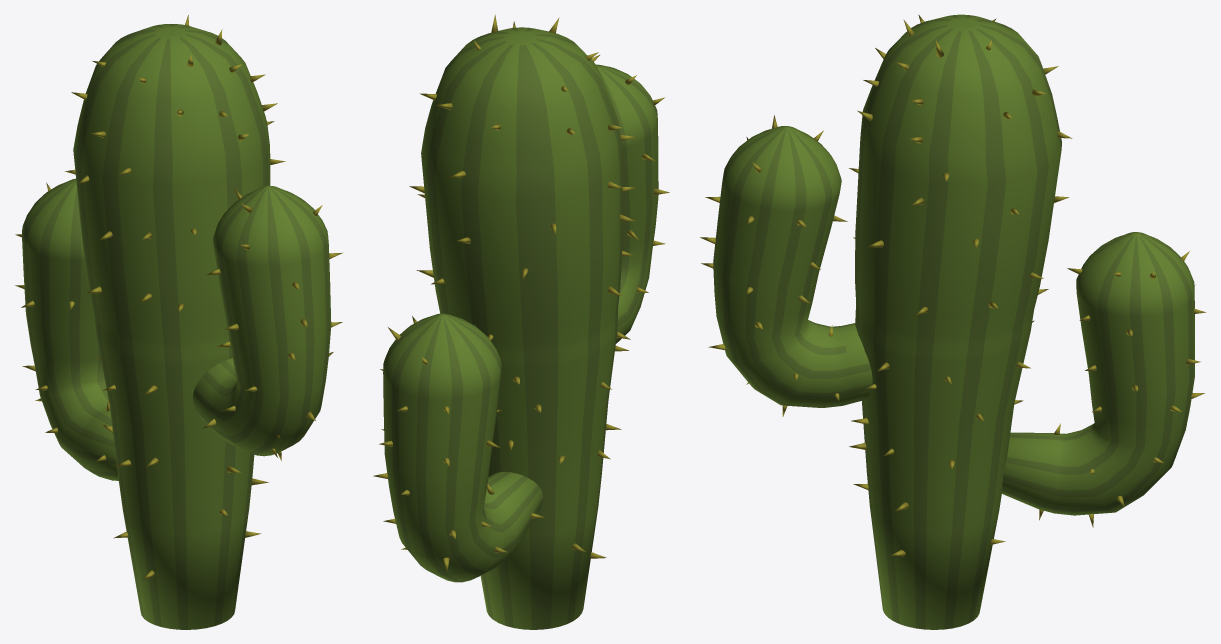
File: GrandCactus.fbx
The picture shows the model from 3 angles, left to right: view 1: azimuth 30°, elevation 25°; view 2: azimuth 150°, elevation 25°; view 3: azimuth 270°, elevation 25°; orthographic projection. The views are drawn at different scales.
Parts seen in each view (by area): view 1: GrandCactus; view 2: GrandCactus; view 3: GrandCactus.
Boxes of the visible parts, left/top/right/bottom form: GrandCactus: left=15, top=15, right=342, bottom=629; GrandCactus: left=373, top=14, right=669, bottom=629; GrandCactus: left=700, top=14, right=1206, bottom=629.
Bounding box in the file's own units: 146 × 412 × 322.
